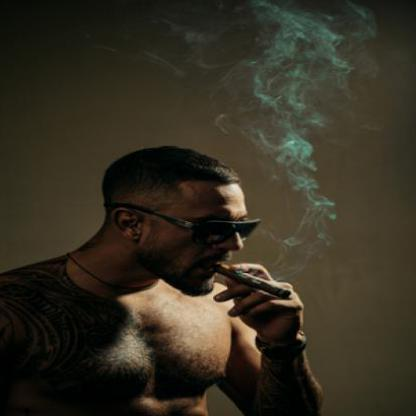cigarette: (216, 261, 296, 302)
person: (8, 149, 256, 415)
smoke: (211, 0, 360, 153), (254, 136, 353, 264)
